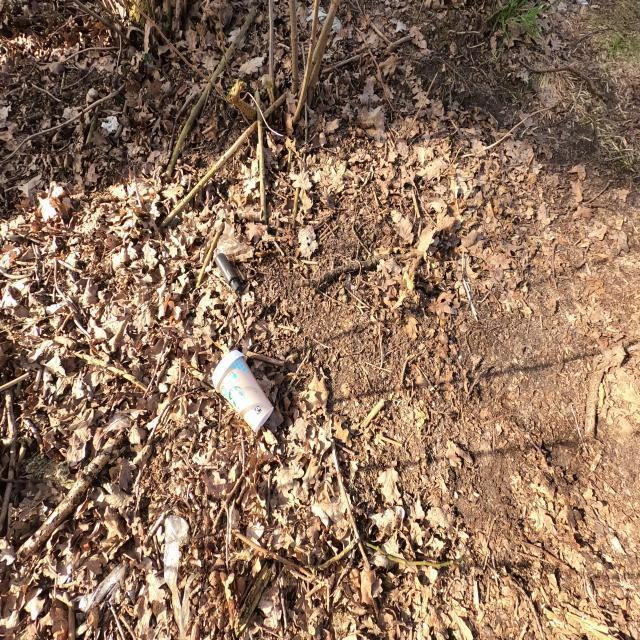Cup: (210, 348, 274, 434)
